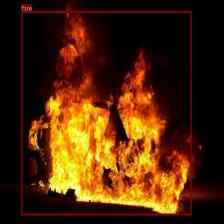fire: (21, 11, 191, 215)
